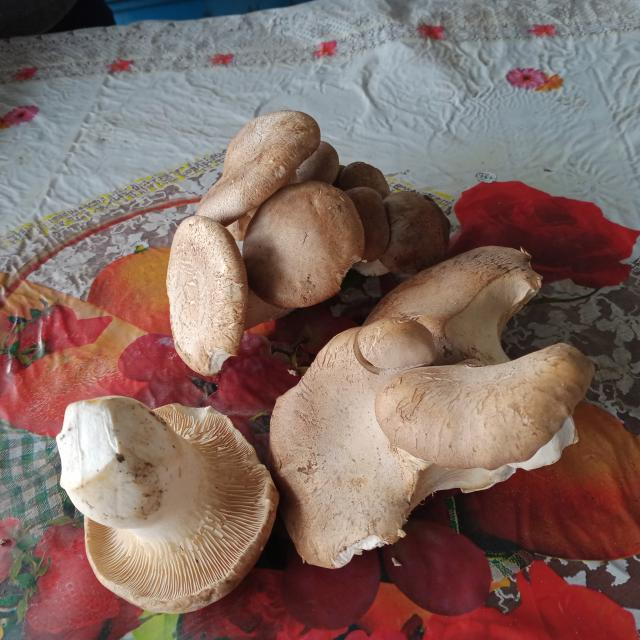Pleurotus cystidiosus: (268, 248, 578, 566), (171, 111, 359, 376), (61, 397, 272, 610)
